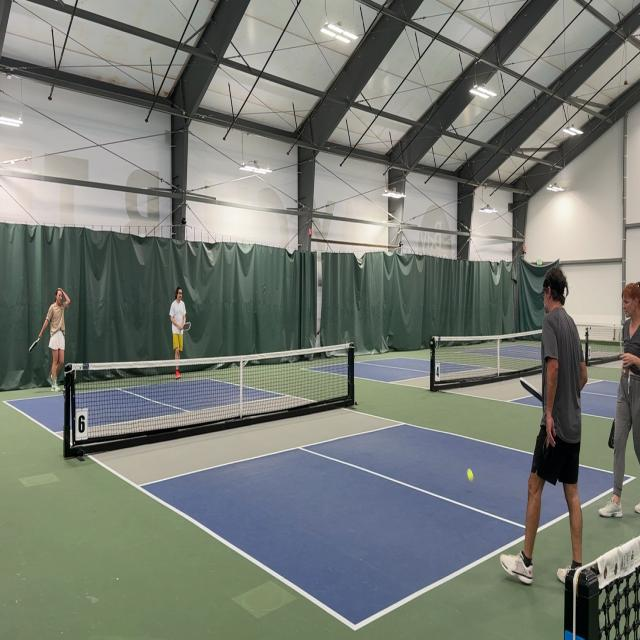ball: (466, 468, 475, 484)
